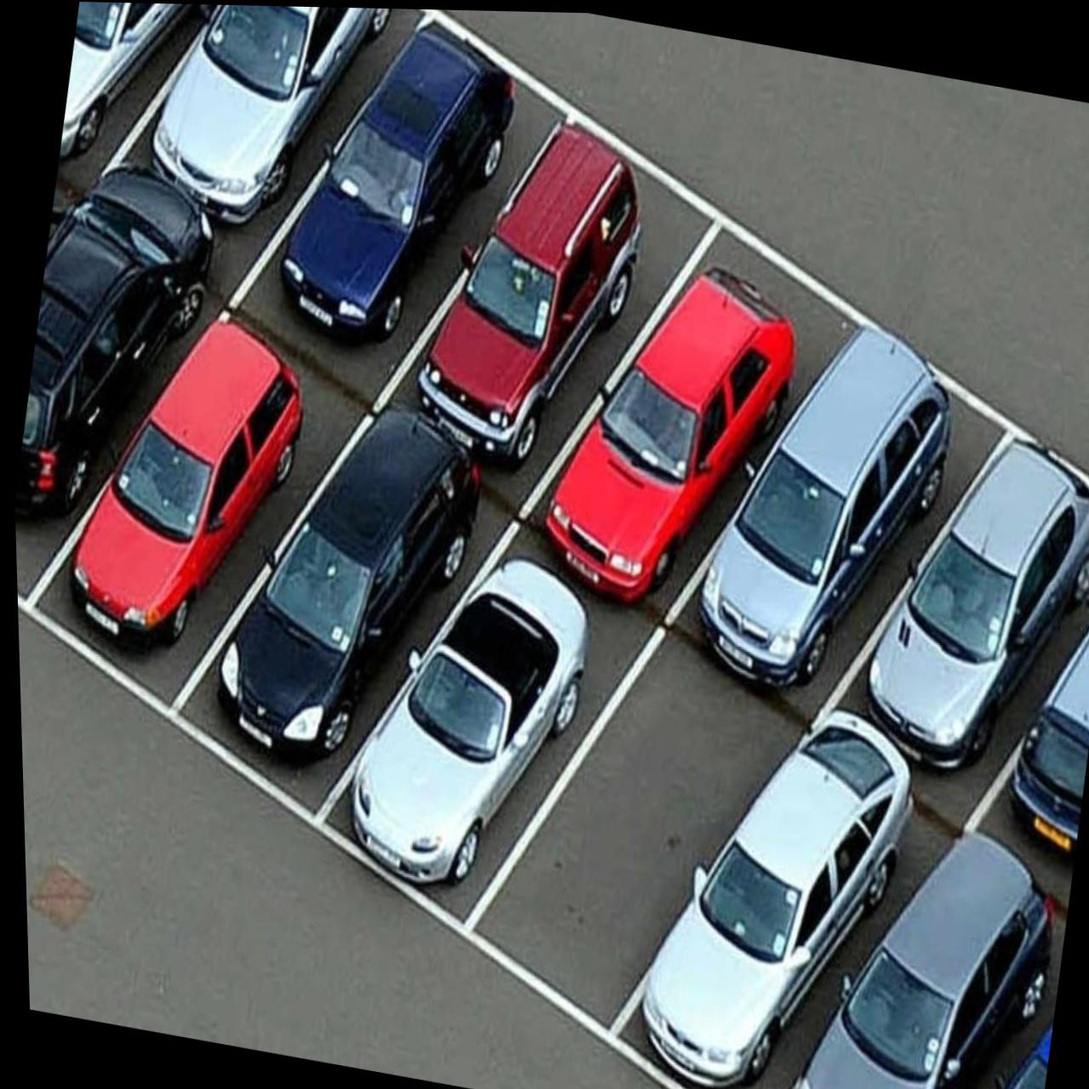cars: (16, 306, 365, 704), (311, 528, 642, 943), (188, 406, 508, 803), (258, 6, 579, 382), (542, 244, 859, 617), (615, 735, 937, 1089), (693, 311, 1001, 676), (400, 145, 716, 478), (838, 455, 1089, 793), (6, 196, 218, 576), (108, 2, 397, 253), (775, 859, 1071, 1089)
empty: (462, 622, 786, 1050)
